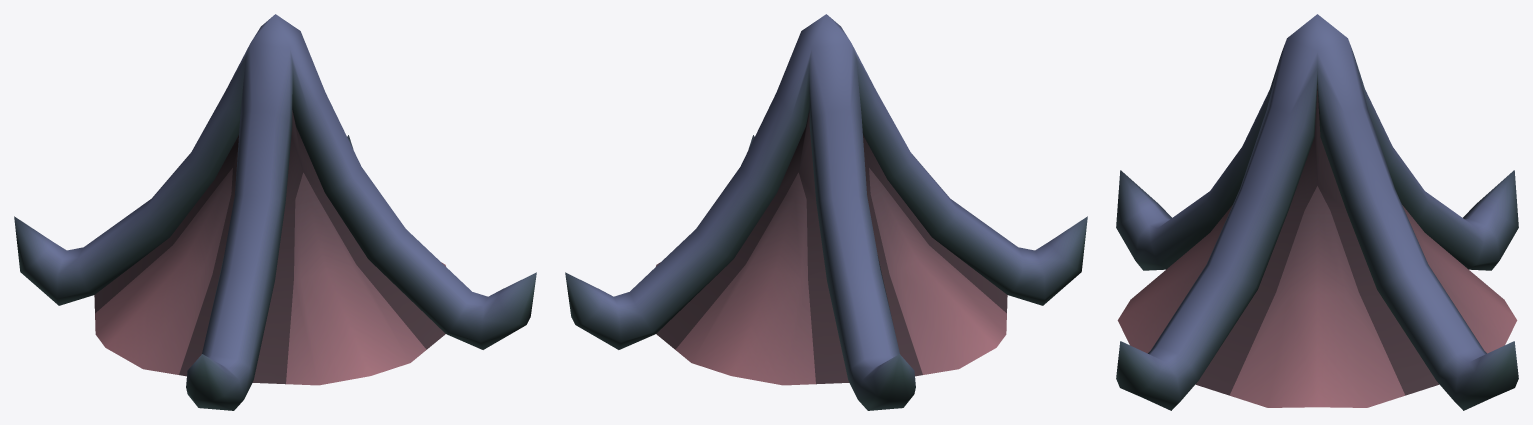
File: undead_tower_roof.fbx
3 renders of one model, left to right at view 1: azimuth 30°, elevation 25°; view 2: azimuth 150°, elevation 25°; view 3: azimuth 270°, elevation 25°, orthographic. The views are drawn at different scales.
Parts seen in each view (by area): view 1: undead_tower_roof; view 2: undead_tower_roof; view 3: undead_tower_roof.
Part boxes in pixels (left/top/right/bottom): undead_tower_roof: left=14, top=14, right=536, bottom=410; undead_tower_roof: left=565, top=14, right=1087, bottom=410; undead_tower_roof: left=1116, top=14, right=1518, bottom=410.
Size of the model in its own units: 3.88 by 3.4 by 3.8.
